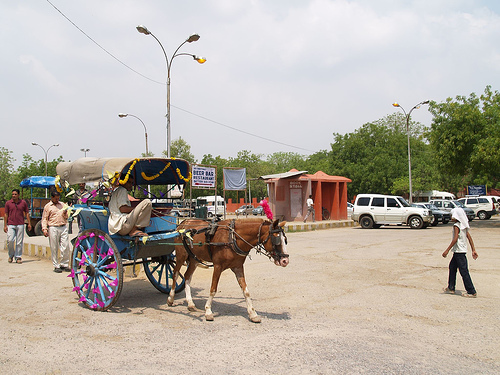horse: (167, 215, 290, 324)
